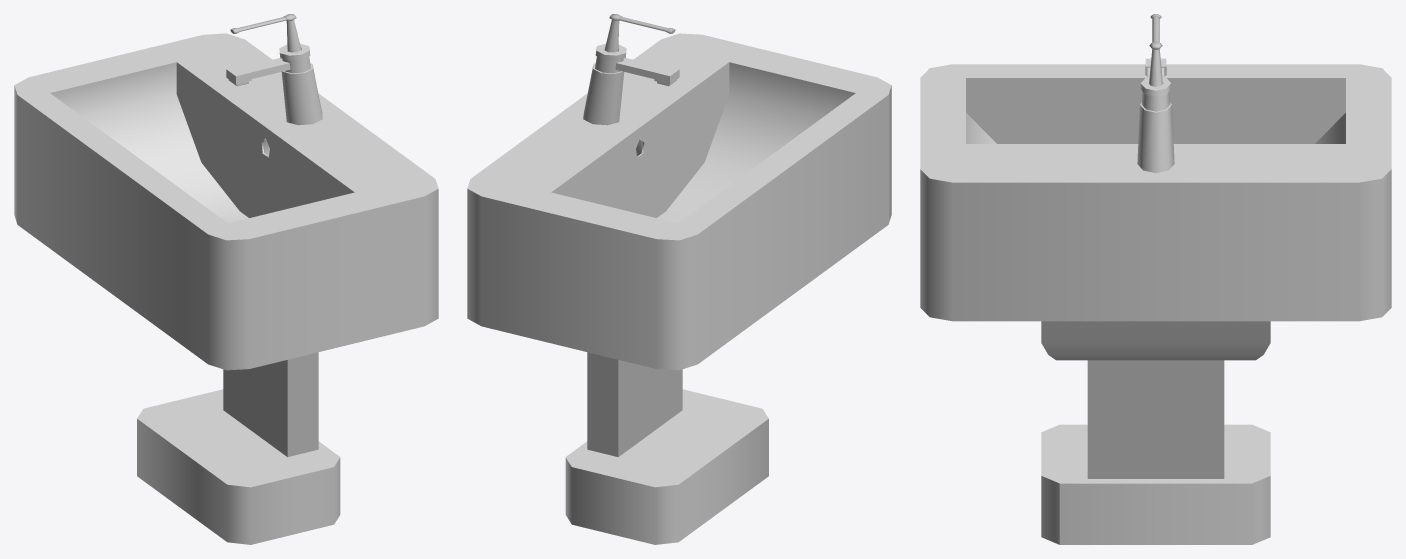
The model's file is Hea_Ba_Sink.fbx.
3 views of the same model, side by side, from view 1: azimuth 30°, elevation 25°; view 2: azimuth 150°, elevation 25°; view 3: azimuth 270°, elevation 25° (orthographic). The views are drawn at different scales.
Visible parts, largest first — view 1: Sink; view 2: Sink; view 3: Sink.
Boxes of the visible parts, <box> form: Sink: <box>14,14,438,544</box>; Sink: <box>467,14,891,544</box>; Sink: <box>920,14,1391,544</box>.
Bounding box in the file's own units: 60.48 × 119 × 102.
